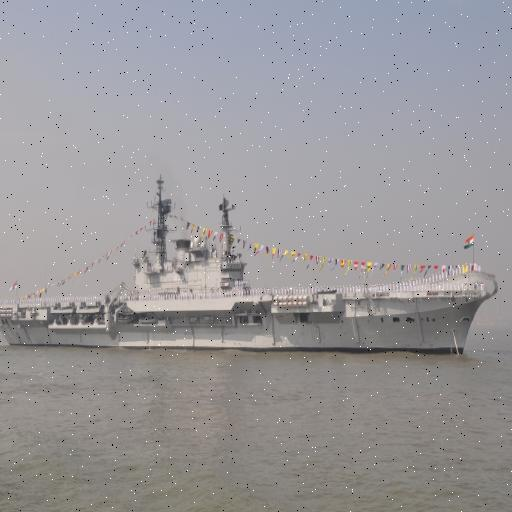Portanaves: (1, 168, 501, 358)
